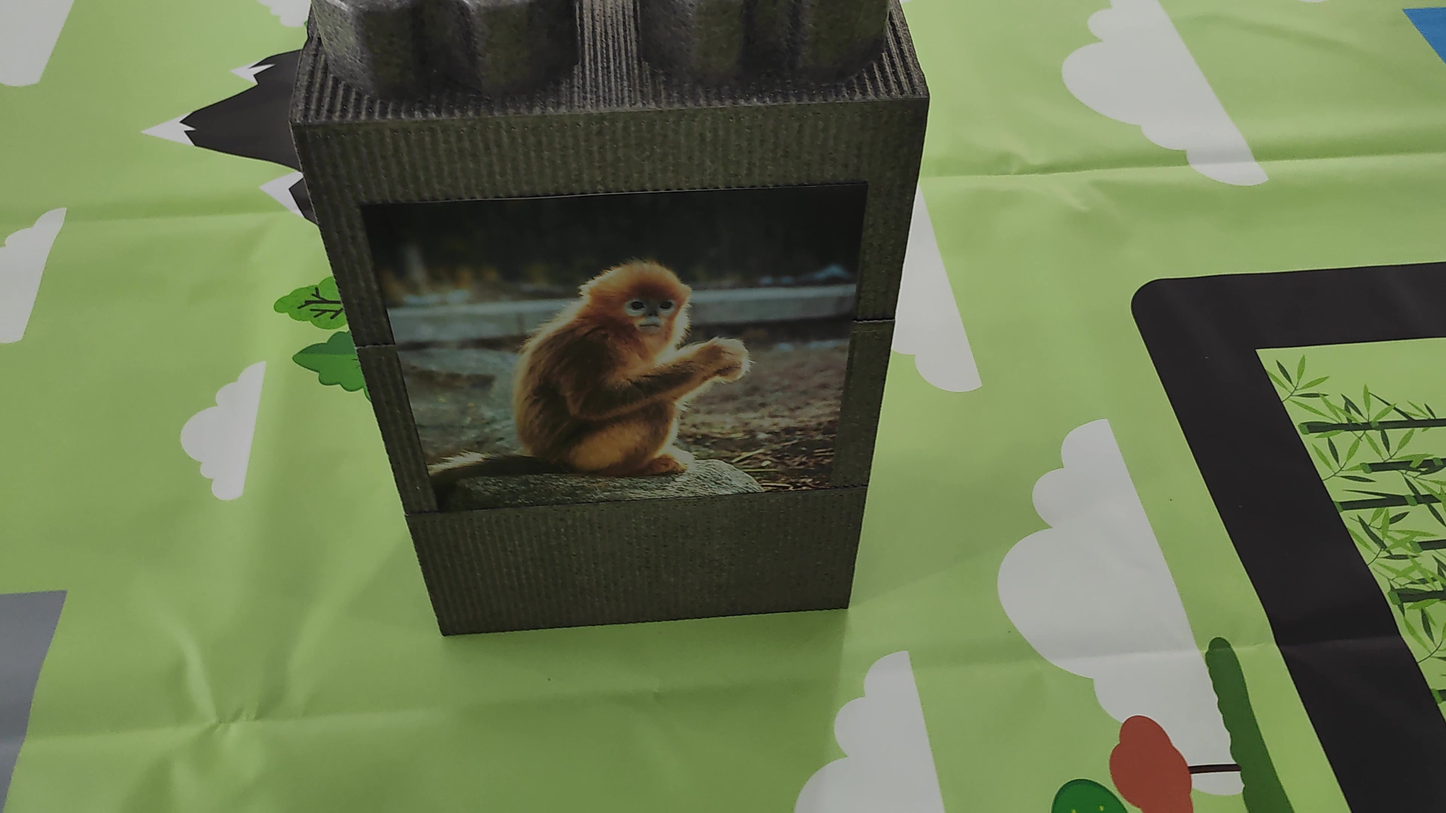monkey: (445, 217, 815, 492)
